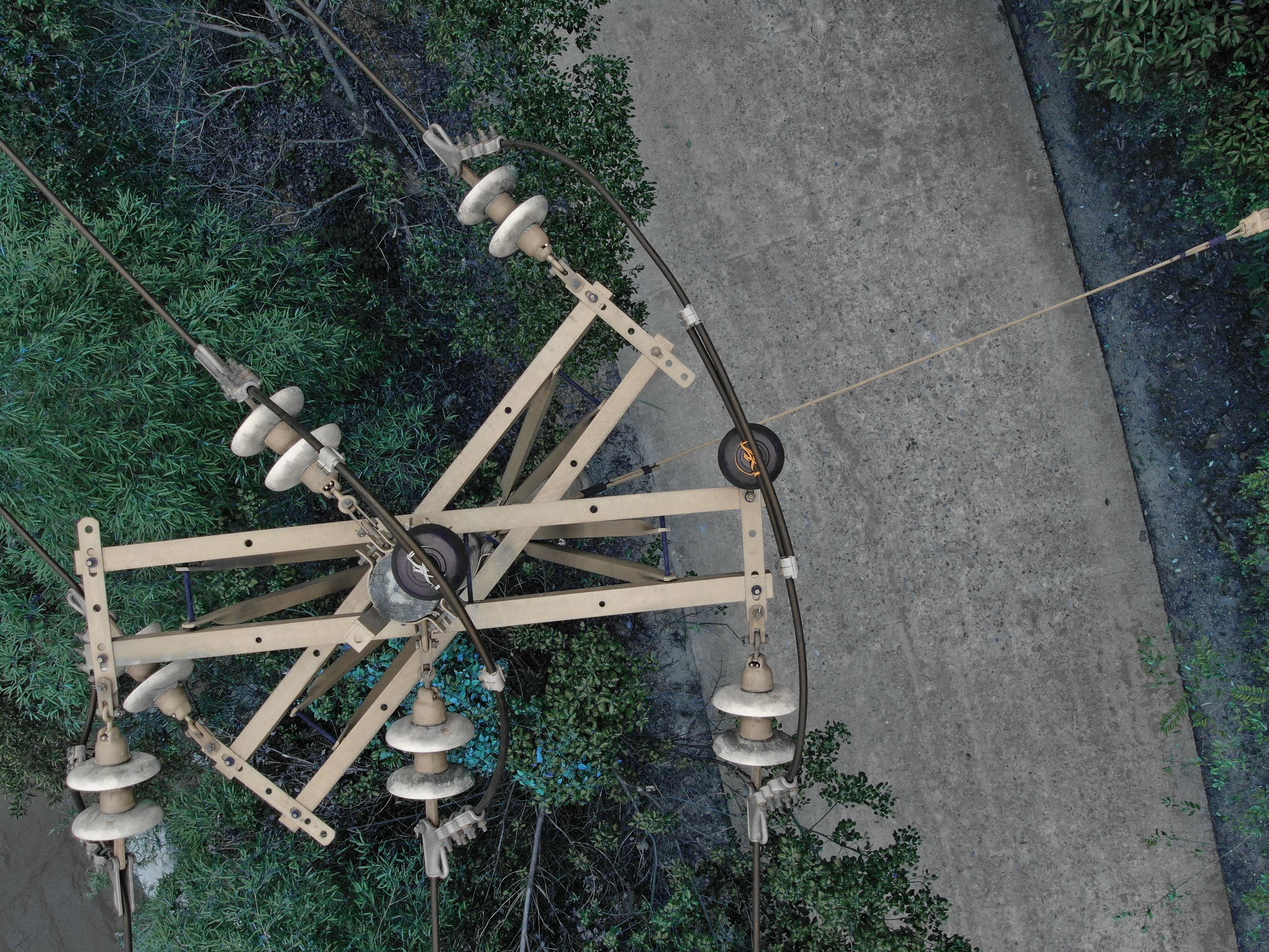severe_soiling_no_discharge_whole: (229, 384, 344, 494), (66, 729, 164, 842), (383, 690, 477, 803), (453, 162, 553, 264), (708, 659, 798, 768), (121, 662, 194, 719)
